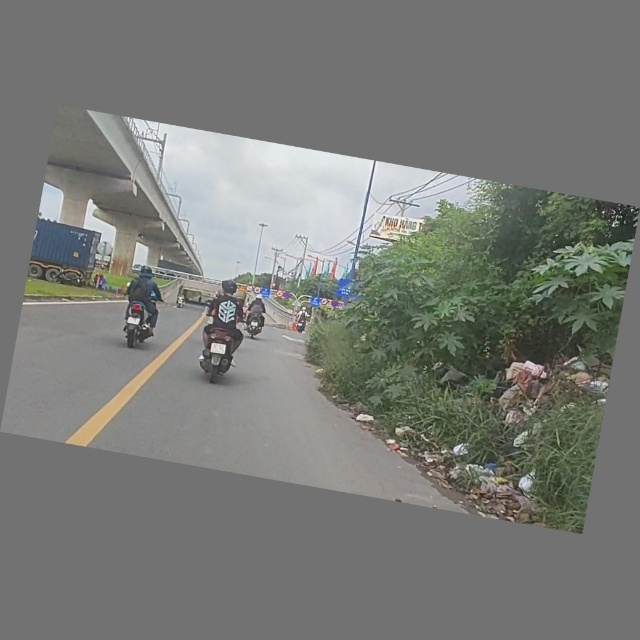P.107: (274, 289, 285, 299), (320, 297, 329, 307)
P.117*: (246, 285, 253, 293)
P.127*40: (253, 287, 262, 296)
P.130: (330, 299, 340, 309), (284, 292, 292, 300)
